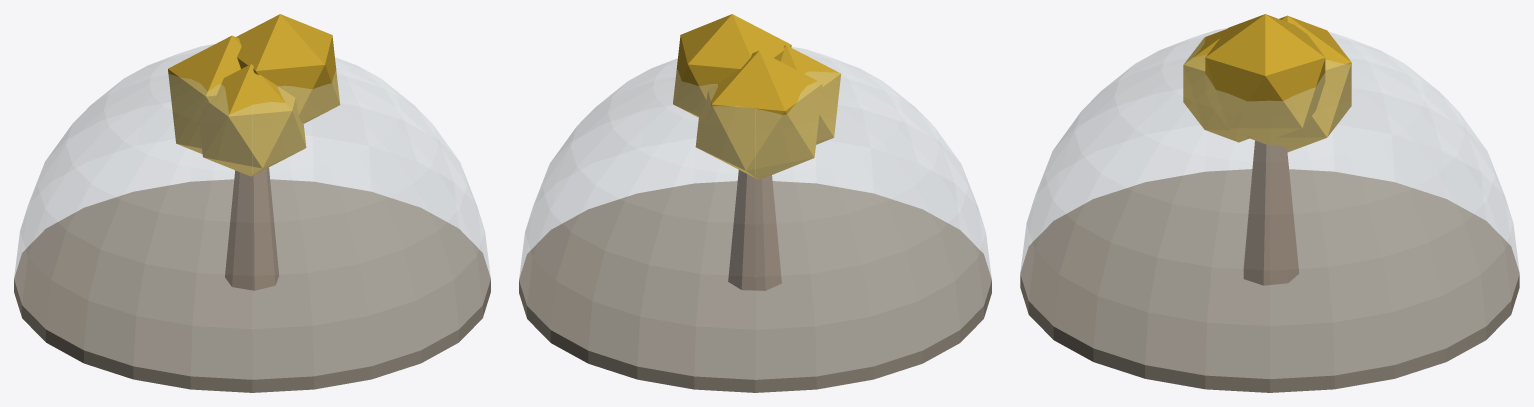
The model's file is aethel.glb.
3 renders of one model, left to right at view 1: azimuth 30°, elevation 25°; view 2: azimuth 150°, elevation 25°; view 3: azimuth 270°, elevation 25°, orthographic. The views are drawn at different scales.
Visible parts, largest first — view 1: Dome_Glass, Dome_Base, Tree_Foliage, Tree_Trunk; view 2: Dome_Glass, Dome_Base, Tree_Foliage, Tree_Trunk; view 3: Dome_Glass, Dome_Base, Tree_Foliage, Tree_Trunk.
Part boxes in pixels (x1,y1,x2,y2): Dome_Glass: [14, 44, 490, 379]; Dome_Base: [14, 179, 490, 392]; Tree_Foliage: [168, 14, 340, 176]; Tree_Trunk: [225, 167, 279, 290]; Dome_Glass: [519, 47, 991, 379]; Dome_Base: [519, 181, 991, 392]; Tree_Foliage: [673, 14, 840, 179]; Tree_Trunk: [728, 170, 781, 290]; Dome_Glass: [1020, 28, 1519, 378]; Dome_Base: [1020, 169, 1519, 392]; Tree_Foliage: [1183, 14, 1351, 152]; Tree_Trunk: [1243, 140, 1299, 285].
Size of the model in its own units: 2.63 by 1.66 by 2.63.
